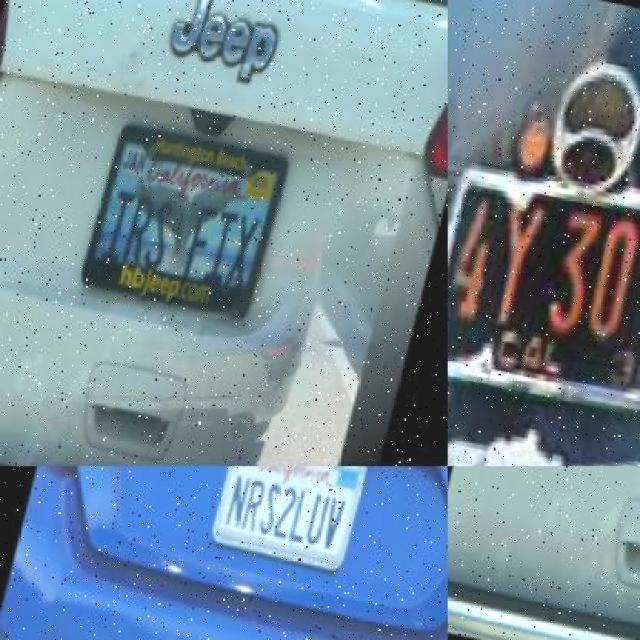licenseplate: (84, 115, 293, 317), (447, 167, 640, 380), (211, 466, 378, 574)
